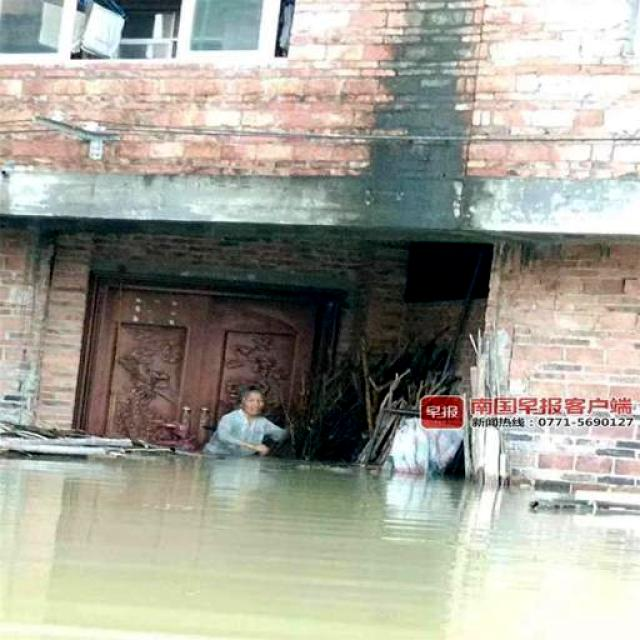civilian: (197, 362, 306, 483)
